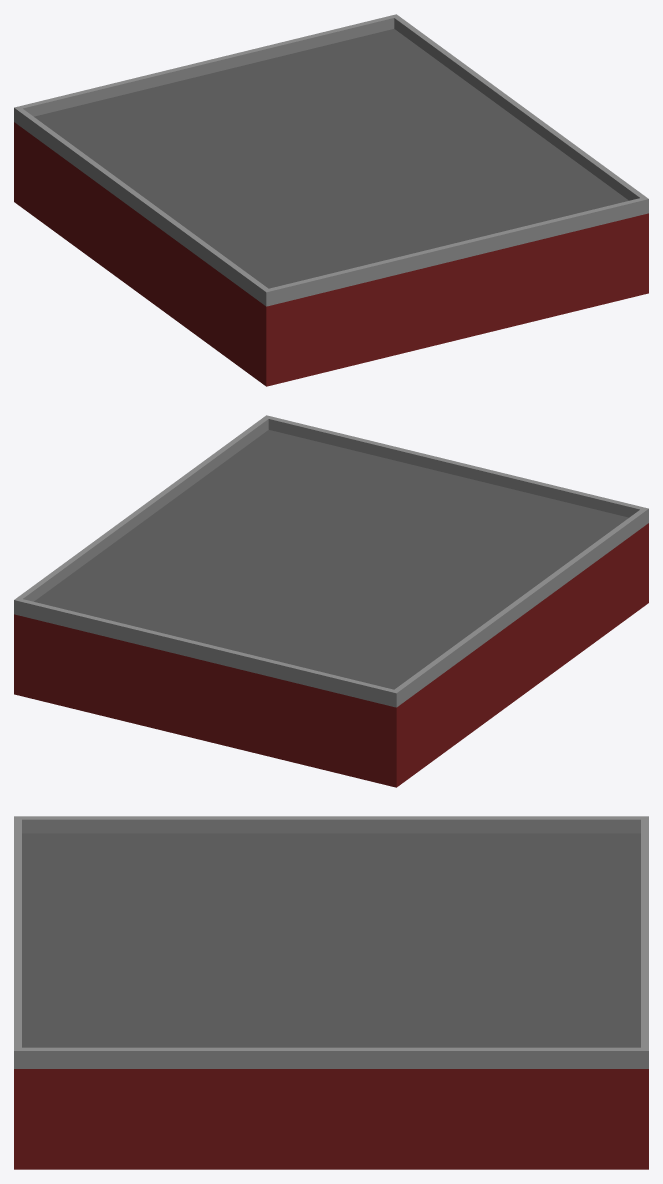
File: Building_35_40_70.FBX
3 renders of one model, top to bottom at view 1: azimuth 30°, elevation 25°; view 2: azimuth 150°, elevation 25°; view 3: azimuth 270°, elevation 25°, orthographic. The views are drawn at different scales.
Visible parts, largest first — view 1: BakedBuilding_2014741032843711; view 2: BakedBuilding_2014741032843711; view 3: BakedBuilding_2014741032843711.
Part boxes in pixels (x1,y1,x2,y2): BakedBuilding_2014741032843711: [14, 14, 648, 386]; BakedBuilding_2014741032843711: [14, 415, 648, 787]; BakedBuilding_2014741032843711: [14, 816, 648, 1169].
Bounding box in the file's own units: 3500 × 825 × 4000.
